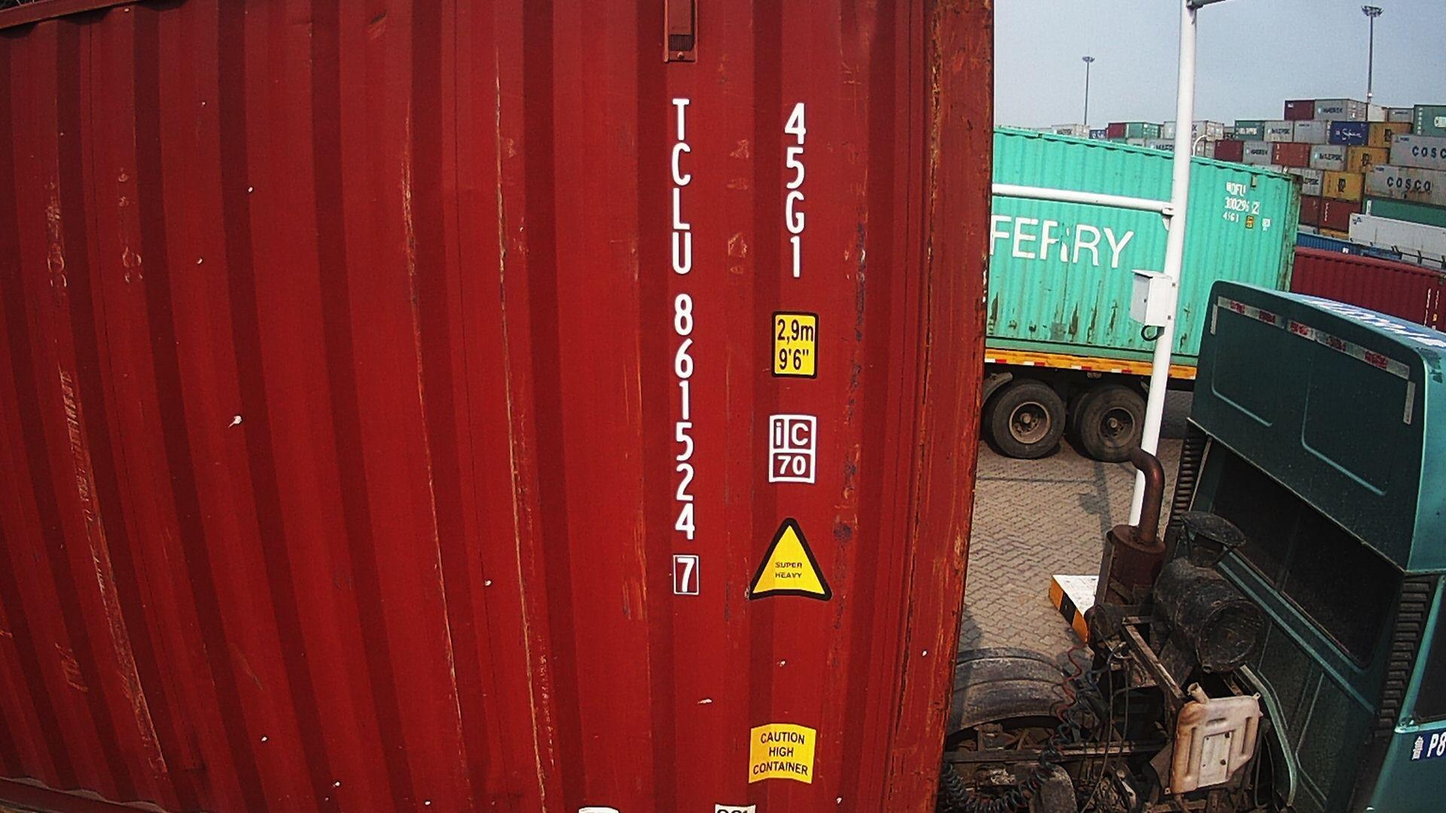container-numbers: (661, 90, 705, 597), (777, 96, 818, 283)
